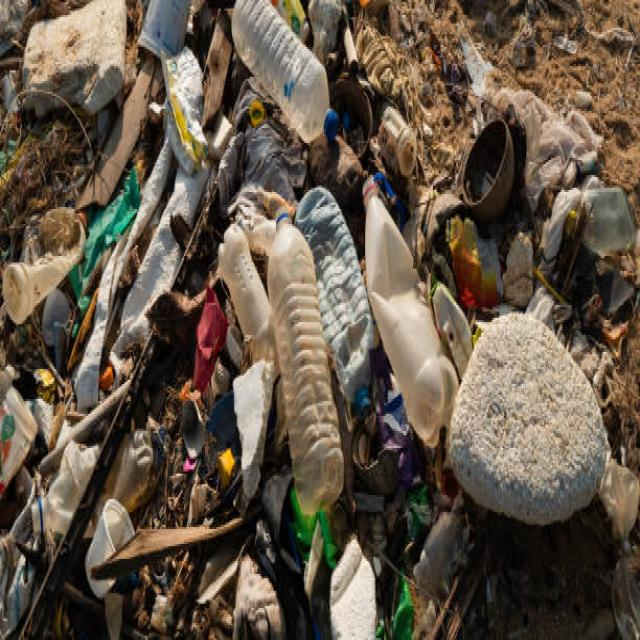plastic: (215, 8, 442, 506)
